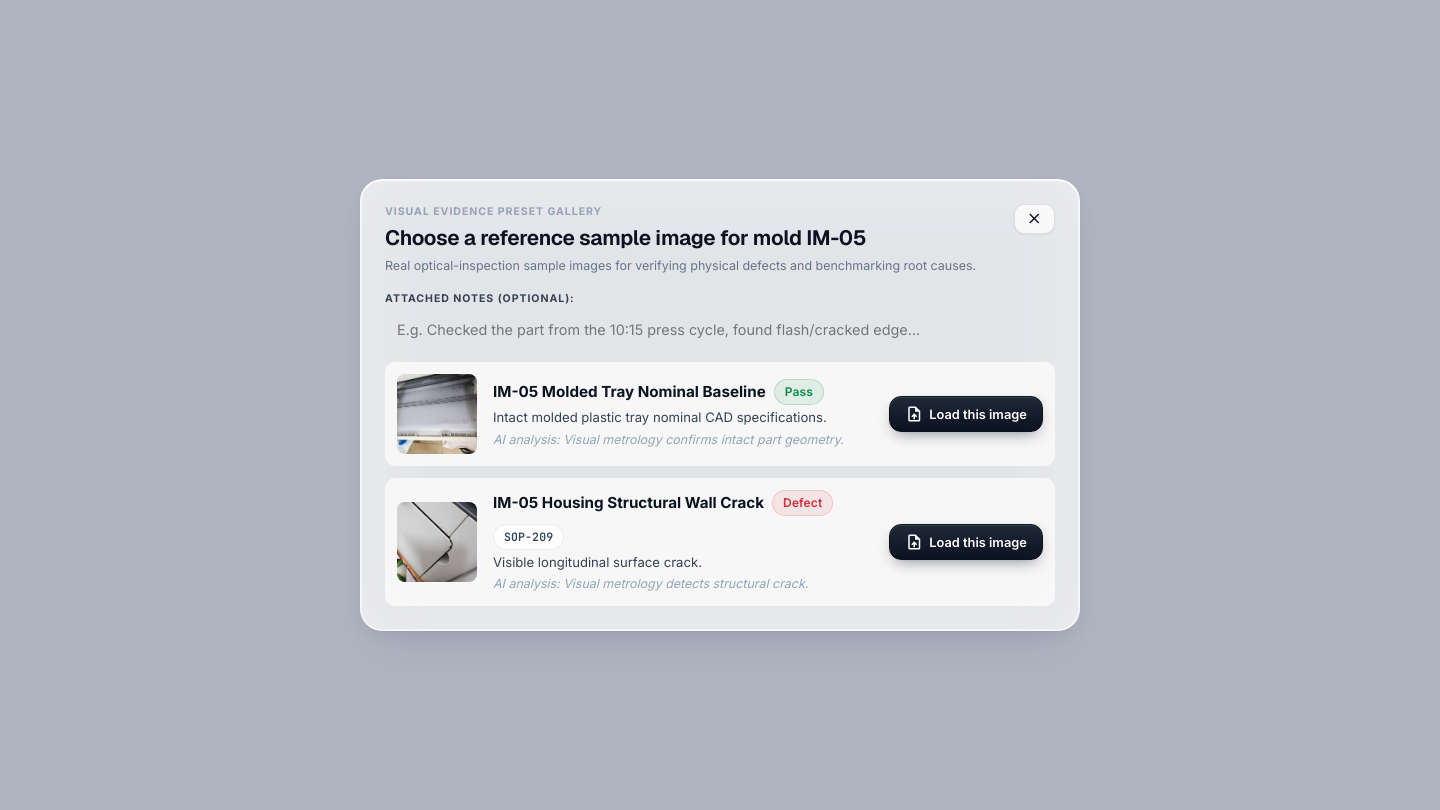
Test case: PresetEvidenceModal › handles HTTP 409 conflict gracefully with friendly message
Click the button with test id "preset-select-btn-preset-im05-crack": [966, 542] box [889,524,1043,560]
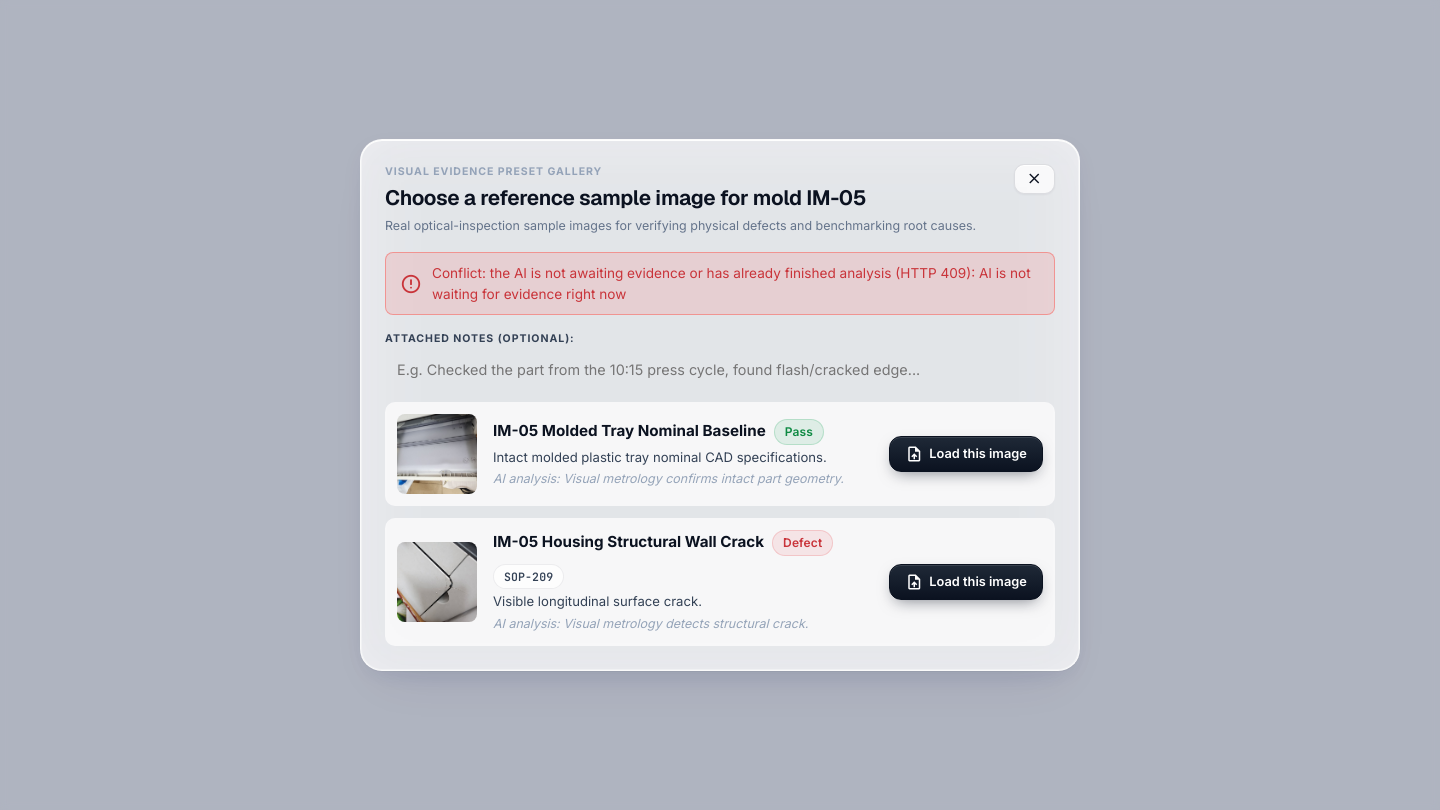
Expected: the element with test id "preset-action-error" is shown, [385,252,1055,315]
Expected: the text "409" is shown, [432,265,1031,302]
